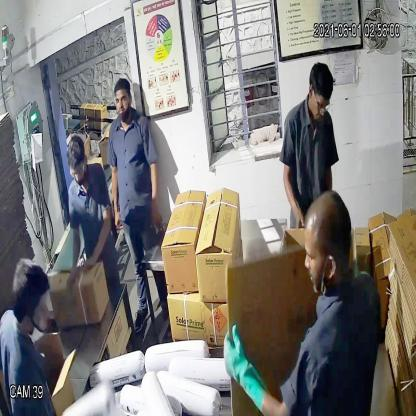goggles: (309, 88, 334, 116)
